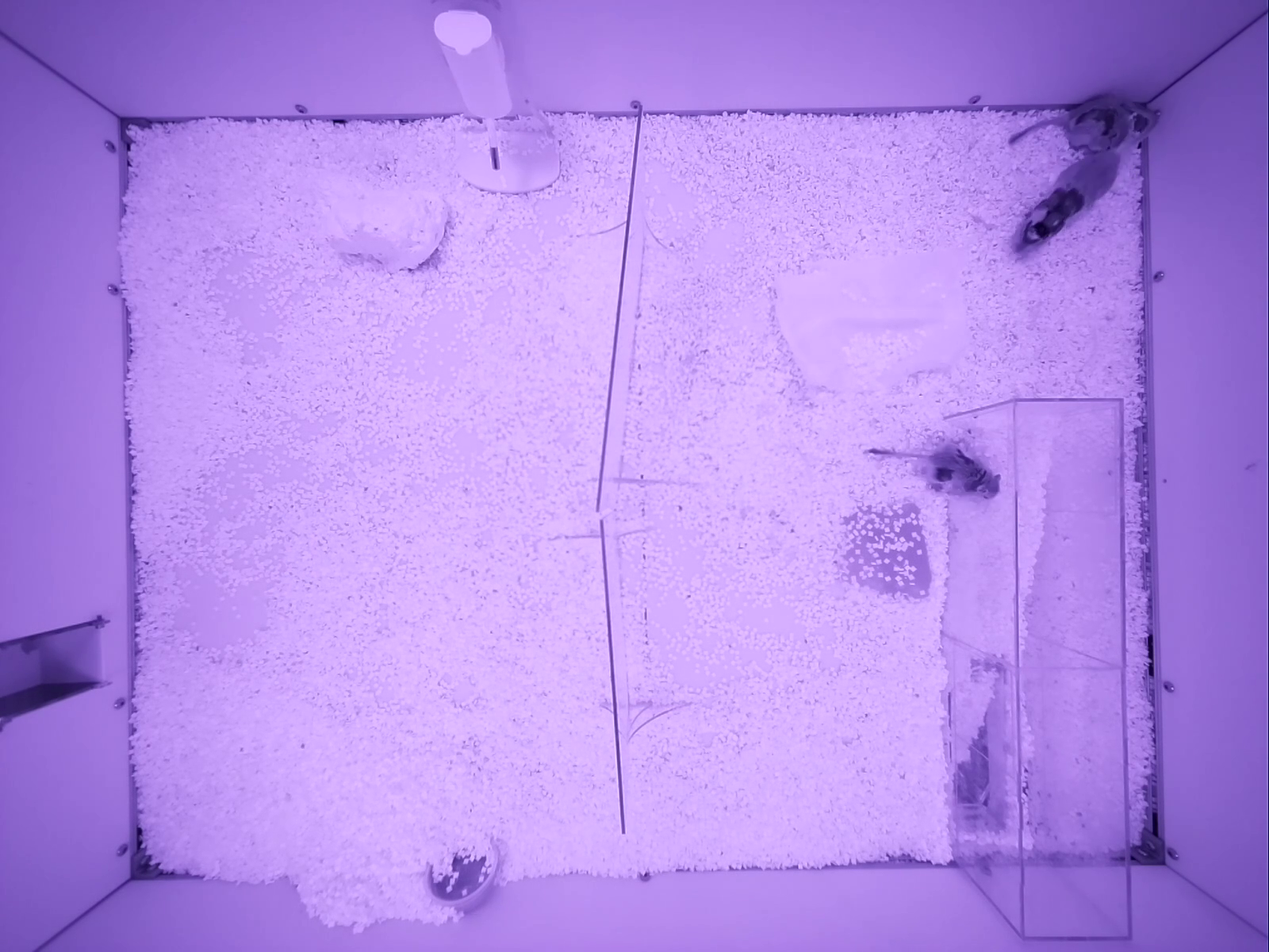adult_back: (1012, 151, 1120, 254), (1010, 94, 1158, 153), (865, 442, 1000, 498)
